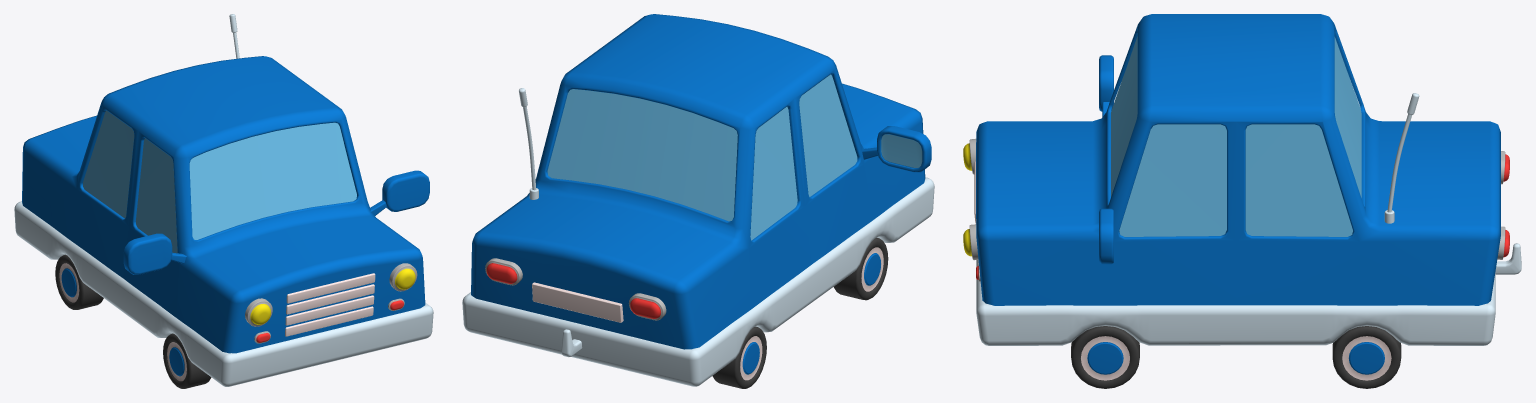
The model's file is City_8_Car_2.glb.
3 renders of one model, left to right at view 1: azimuth 30°, elevation 25°; view 2: azimuth 150°, elevation 25°; view 3: azimuth 270°, elevation 25°, orthographic. The views are drawn at different scales.
Visible parts, largest first — view 1: City_8_Car_2; view 2: City_8_Car_2; view 3: City_8_Car_2.
Boxes of the visible parts, <box> form: City_8_Car_2: <box>14,14,433,388</box>; City_8_Car_2: <box>462,14,934,388</box>; City_8_Car_2: <box>963,14,1521,388</box>.
Bounding box in the file's own units: 3.3 × 2.45 × 4.35.
1 material, 1 textured.
